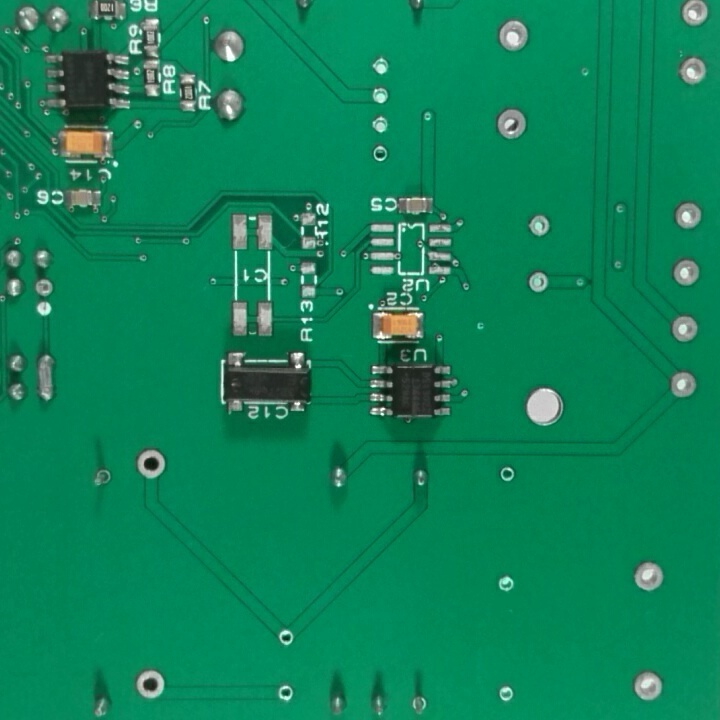F: (494, 103, 532, 145), (497, 15, 534, 54), (634, 558, 671, 595), (134, 444, 169, 482), (631, 667, 666, 703), (134, 668, 170, 703), (670, 255, 704, 292), (668, 312, 702, 346), (674, 197, 705, 232), (669, 366, 699, 402), (677, 1, 713, 31), (677, 54, 709, 87), (522, 211, 554, 240), (525, 268, 554, 297), (91, 463, 116, 492), (31, 275, 59, 300), (497, 460, 520, 486), (274, 681, 298, 705), (367, 86, 392, 109), (368, 115, 393, 138), (368, 56, 394, 78), (410, 692, 431, 719), (275, 626, 295, 651), (496, 683, 517, 706), (371, 144, 390, 166), (497, 575, 515, 598)
P: (36, 349, 59, 407)
